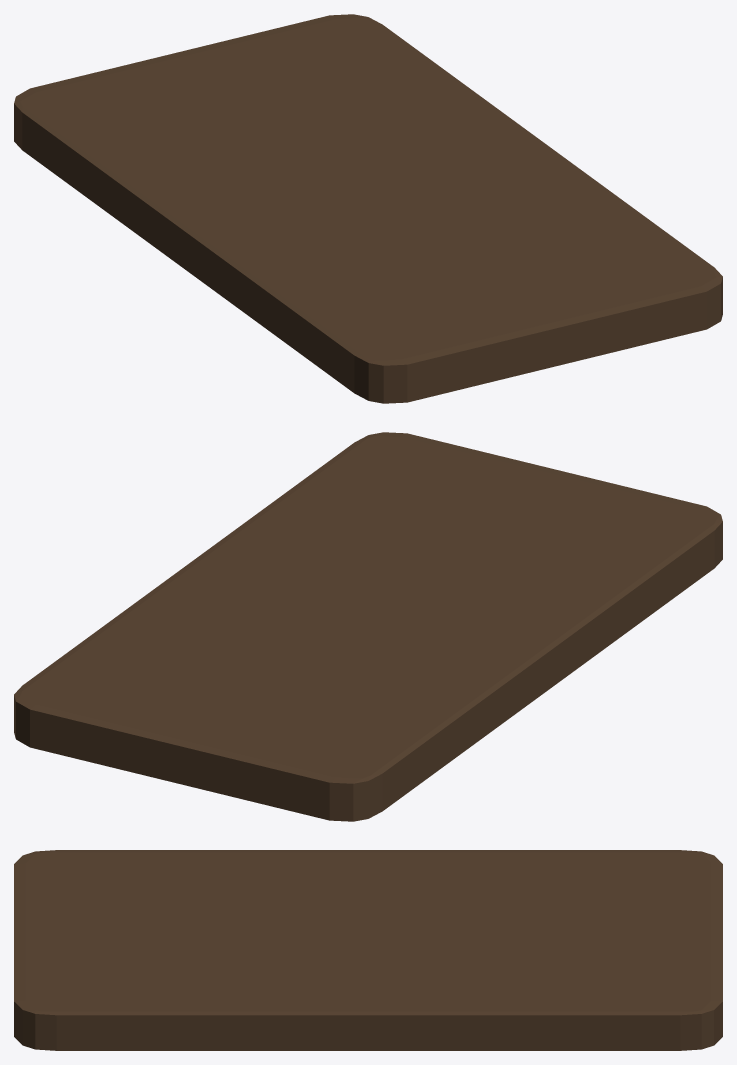
File: cutting_board.glb
3 views of the same model, one above another, from view 1: azimuth 30°, elevation 25°; view 2: azimuth 150°, elevation 25°; view 3: azimuth 270°, elevation 25° (orthographic). The views are drawn at different scales.
Parts seen in each view (by area): view 1: Cube.001; view 2: Cube.001; view 3: Cube.001.
Part boxes in pixels (box(x1,y1,x2,y2)): Cube.001: box(14, 14, 722, 403); Cube.001: box(14, 432, 722, 821); Cube.001: box(14, 850, 722, 1050).
Size of what is drawn, in the model's own units: 0.4309 by 0.0448 by 0.7817.
